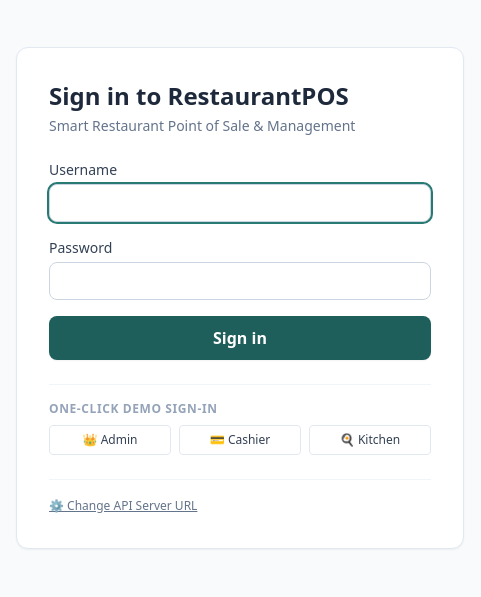
Scenario: Login › shows the server's error and stays signed out on failure
In the field labelled "Username": (240, 203) [49, 184, 431, 222], type "x"
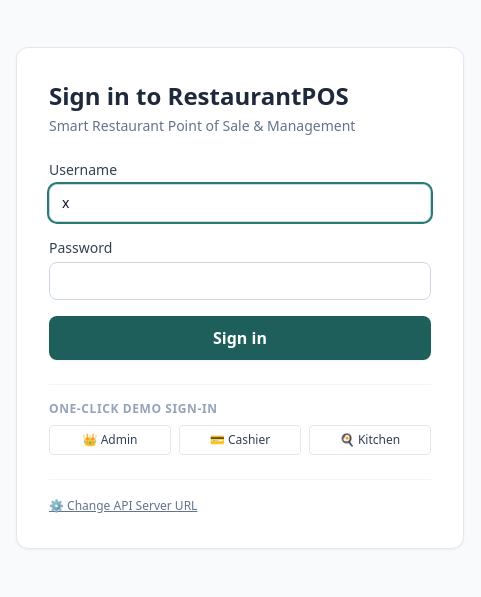
In the password field labelled "Password": (240, 281) [49, 262, 431, 300], type "y"
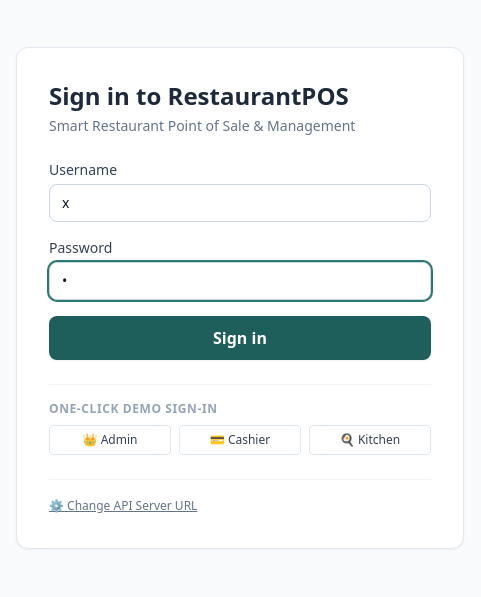
Click the button "Sign in": (240, 338) [49, 316, 431, 360]
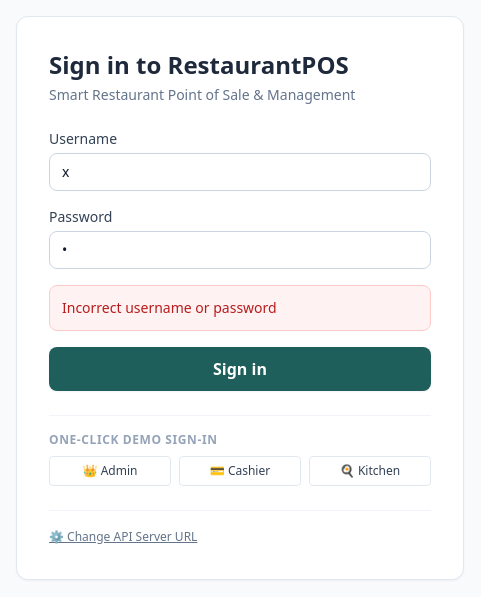
Now the message reads "Incorrect username or password", box [62, 298, 277, 317]
